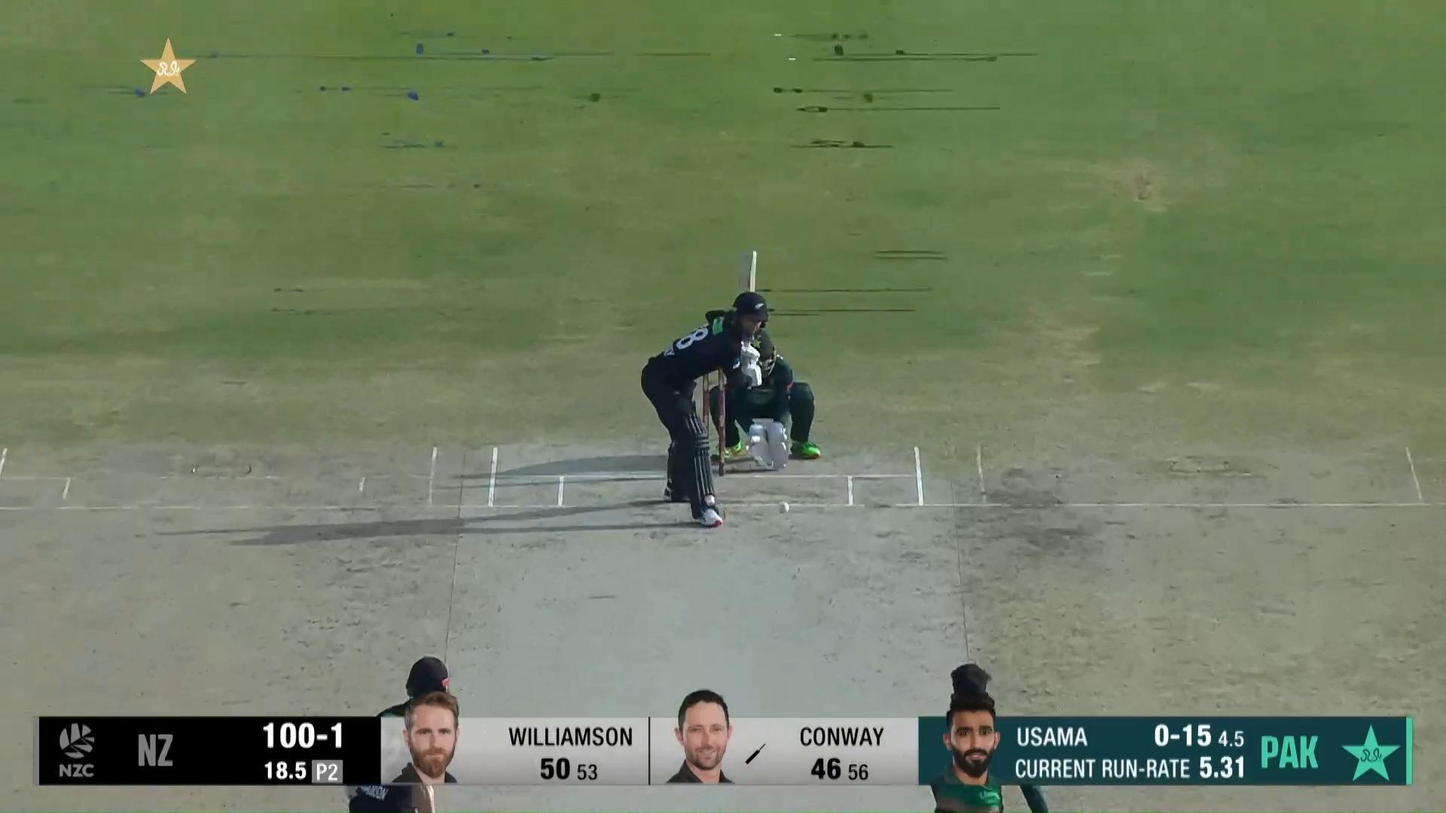BM 1: (639, 249, 770, 528)
BO: (930, 662, 1050, 813)
